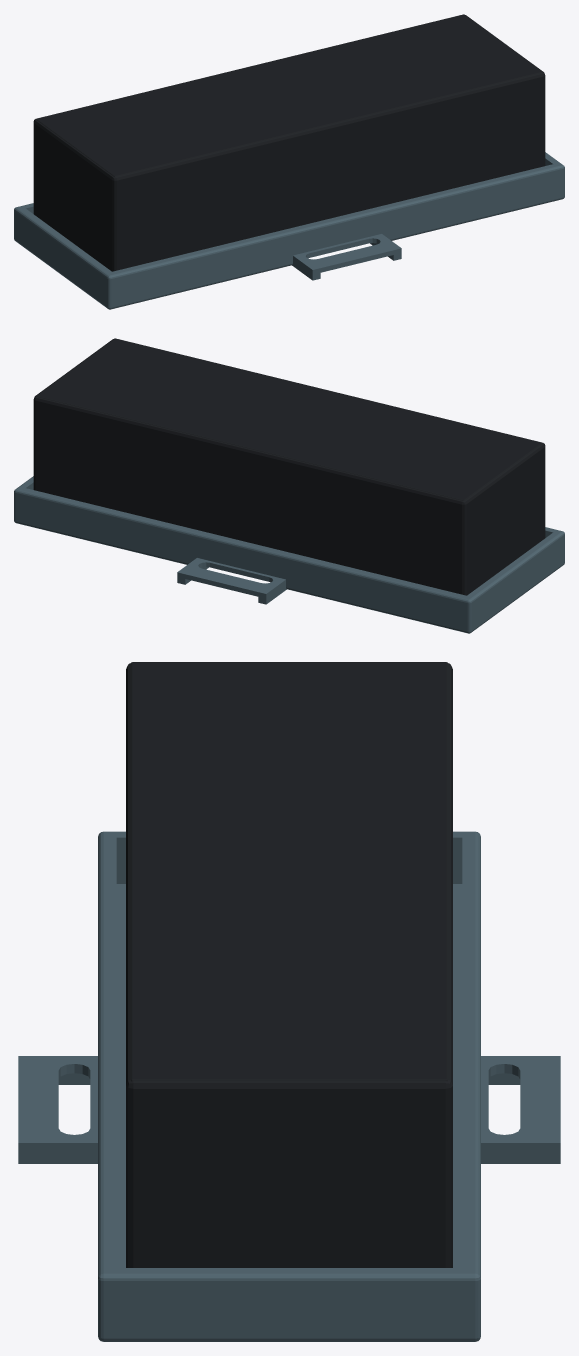
The model's file is battery_large.glb.
The picture shows the model from 3 angles, top to bottom: view 1: azimuth 30°, elevation 25°; view 2: azimuth 150°, elevation 25°; view 3: azimuth 270°, elevation 25°; orthographic projection. The views are drawn at different scales.
Parts seen in each view (by area): view 1: mesh_rubber_and_chip_3, print_battery_tray; view 2: mesh_rubber_and_chip_3, print_battery_tray; view 3: mesh_rubber_and_chip_3, print_battery_tray.
Part boxes in pixels (x1,y1,x2,y2): mesh_rubber_and_chip_3: (33,14,545,271); print_battery_tray: (14,152,564,309); mesh_rubber_and_chip_3: (33,338,545,595); print_battery_tray: (14,476,564,633); mesh_rubber_and_chip_3: (126,662,452,1267); print_battery_tray: (18,831,560,1341).
Size of the model in its own units: 1.13 by 0.295 by 0.58.
